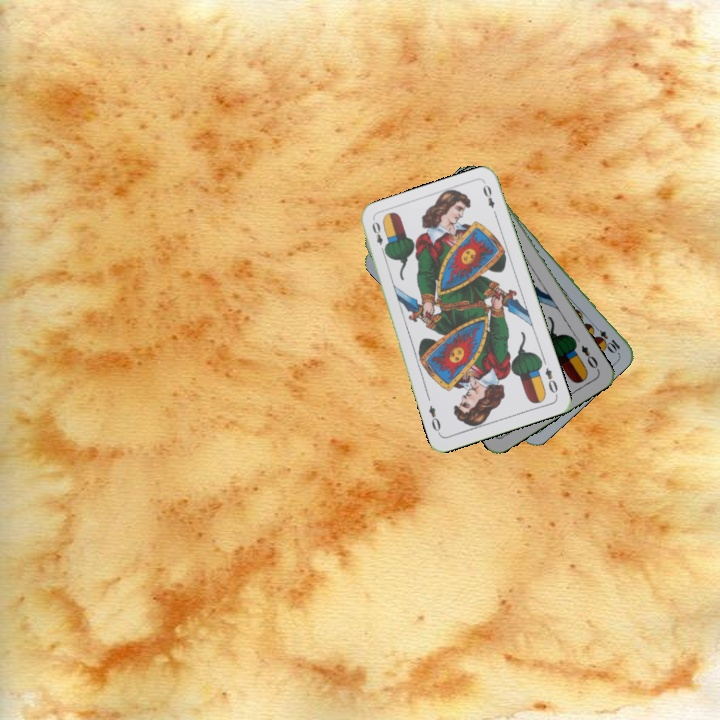E10: (589, 321, 623, 355)
EO: (368, 217, 389, 257), (577, 341, 602, 374), (541, 363, 560, 396)
